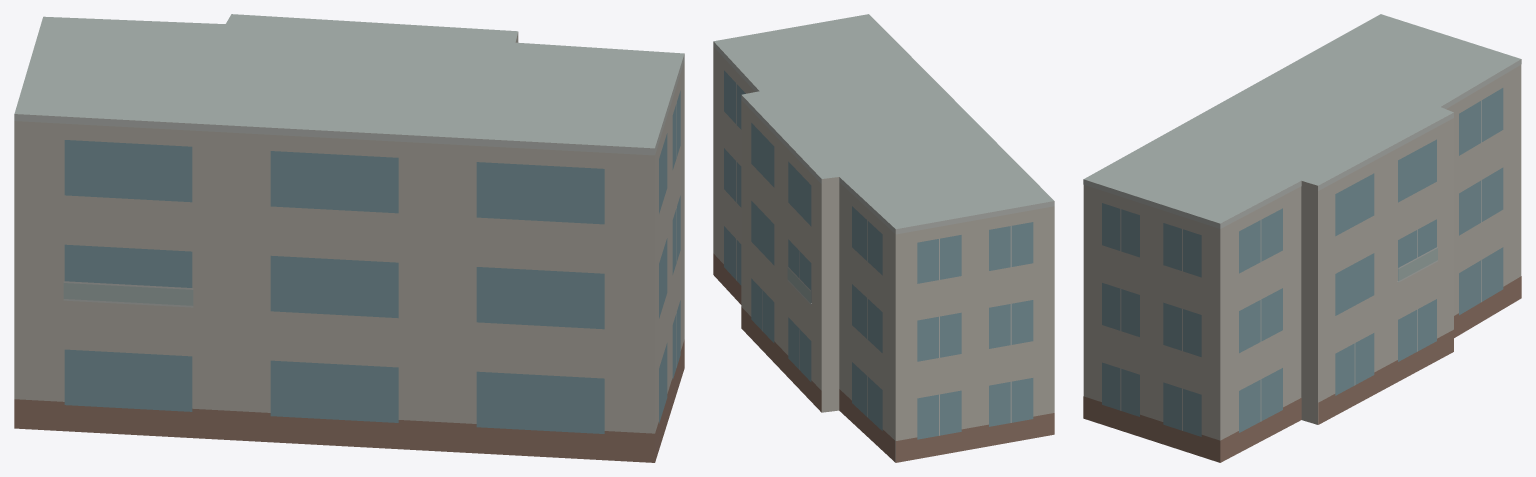
Rendered from survey-upis-32932056.glb.
3 renders of one model, left to right at view 1: azimuth 30°, elevation 25°; view 2: azimuth 150°, elevation 25°; view 3: azimuth 270°, elevation 25°, orthographic. The views are drawn at different scales.
Visible parts, largest first — view 1: survey-upis-32932056.tmp; view 2: survey-upis-32932056.tmp; view 3: survey-upis-32932056.tmp.
Part boxes in pixels (x1,y1,x2,y2): survey-upis-32932056.tmp: (14, 14, 684, 462); survey-upis-32932056.tmp: (713, 14, 1054, 462); survey-upis-32932056.tmp: (1083, 14, 1521, 462).
Bounding box in the file's own units: 20.3 × 10.8 × 17.93.
